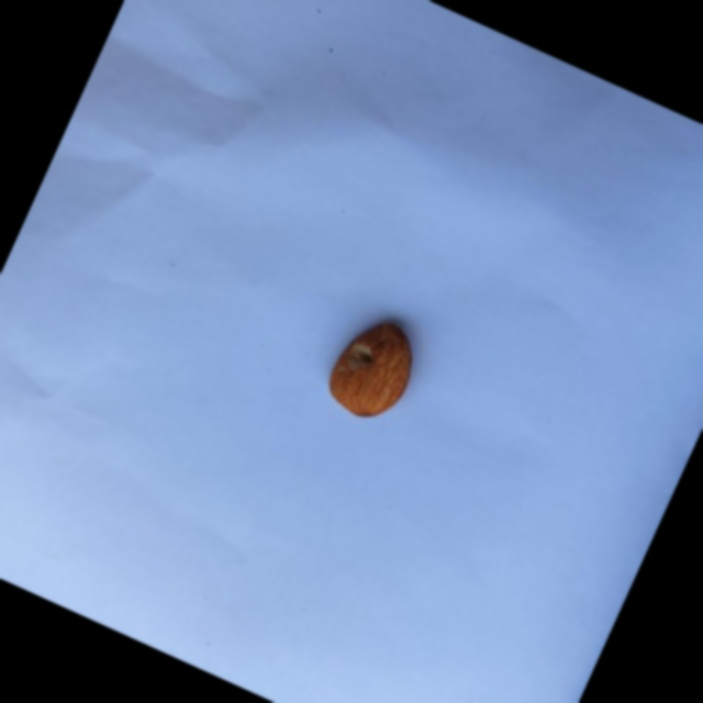grade3: (312, 302, 432, 434)
